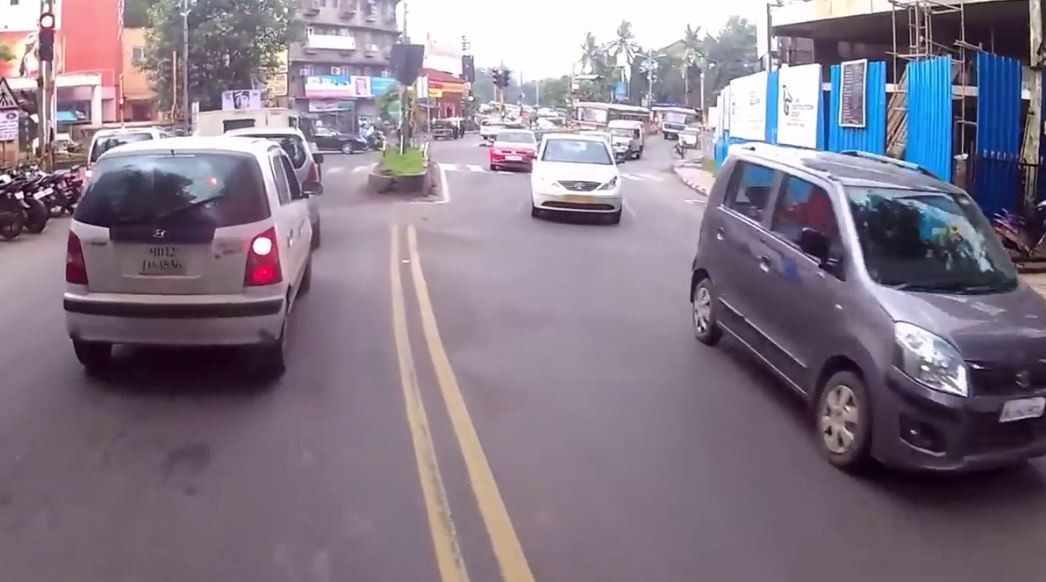car: (680, 134, 1046, 494), (50, 122, 326, 410), (525, 127, 630, 231), (284, 117, 336, 260), (484, 122, 542, 179)
